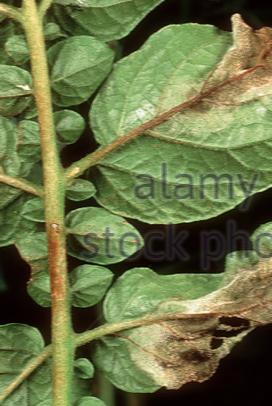Tomato leaf late blight: (88, 8, 272, 226), (83, 205, 272, 395)
